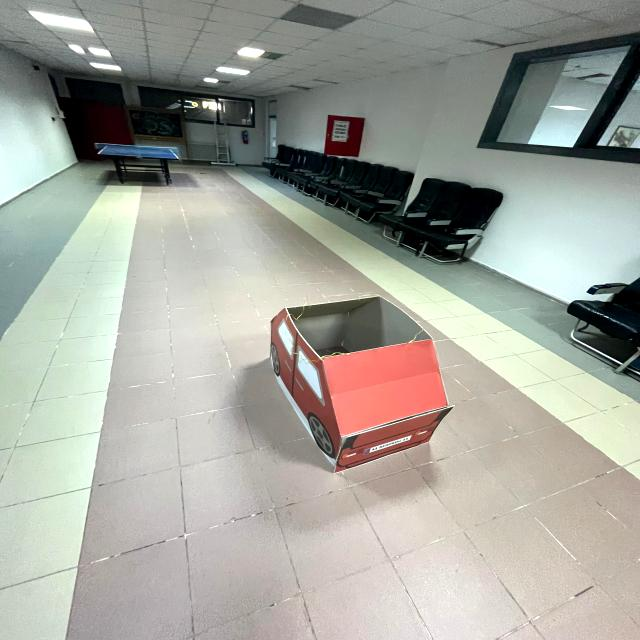red_car: (247, 281, 474, 479)
